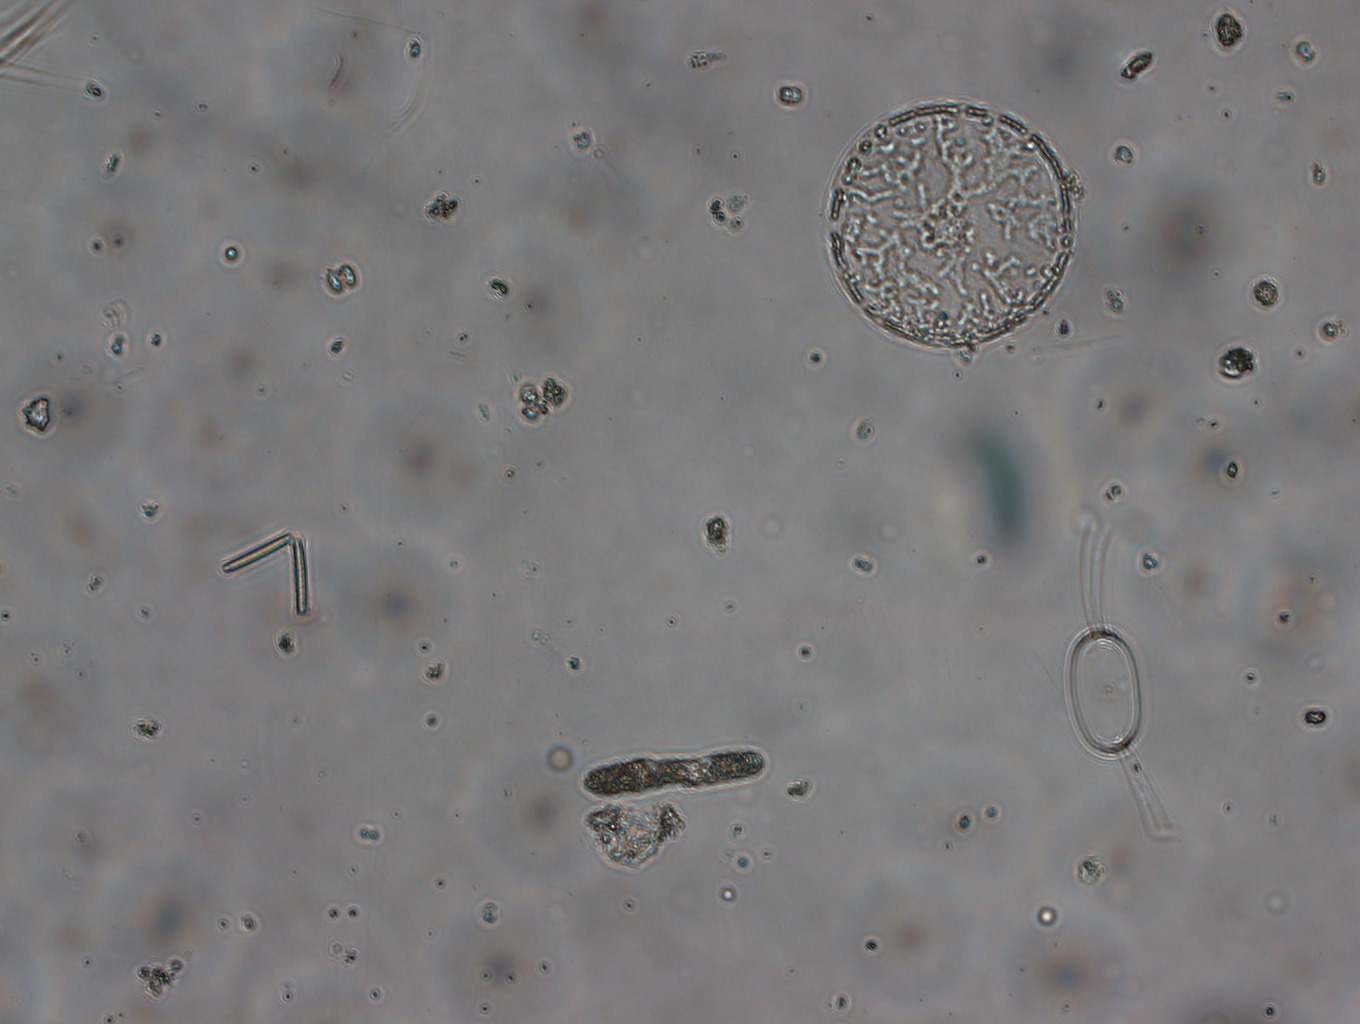coscinodiscus: (822, 96, 1085, 360)
thalassionema nitzschioides: (216, 514, 326, 614)
